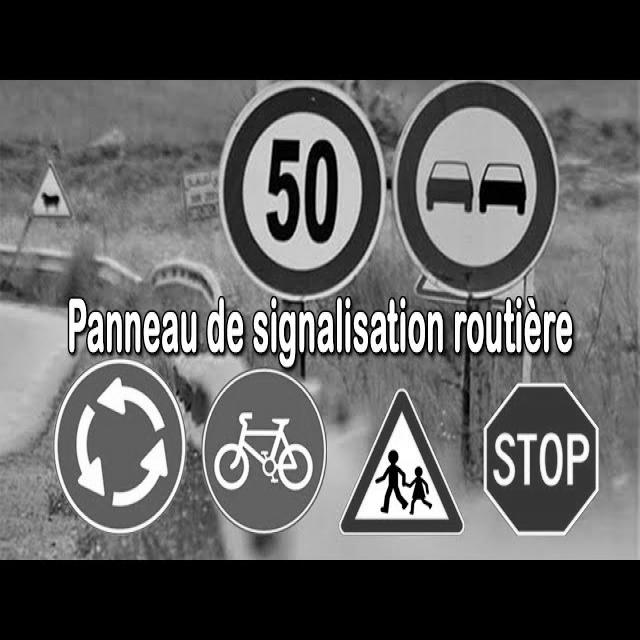danger: (340, 386, 467, 538)
forbidden: (393, 75, 560, 304)
let_go: (483, 380, 602, 538)
obligation: (55, 356, 188, 534), (201, 366, 328, 534)
speed_50: (219, 80, 387, 300)
